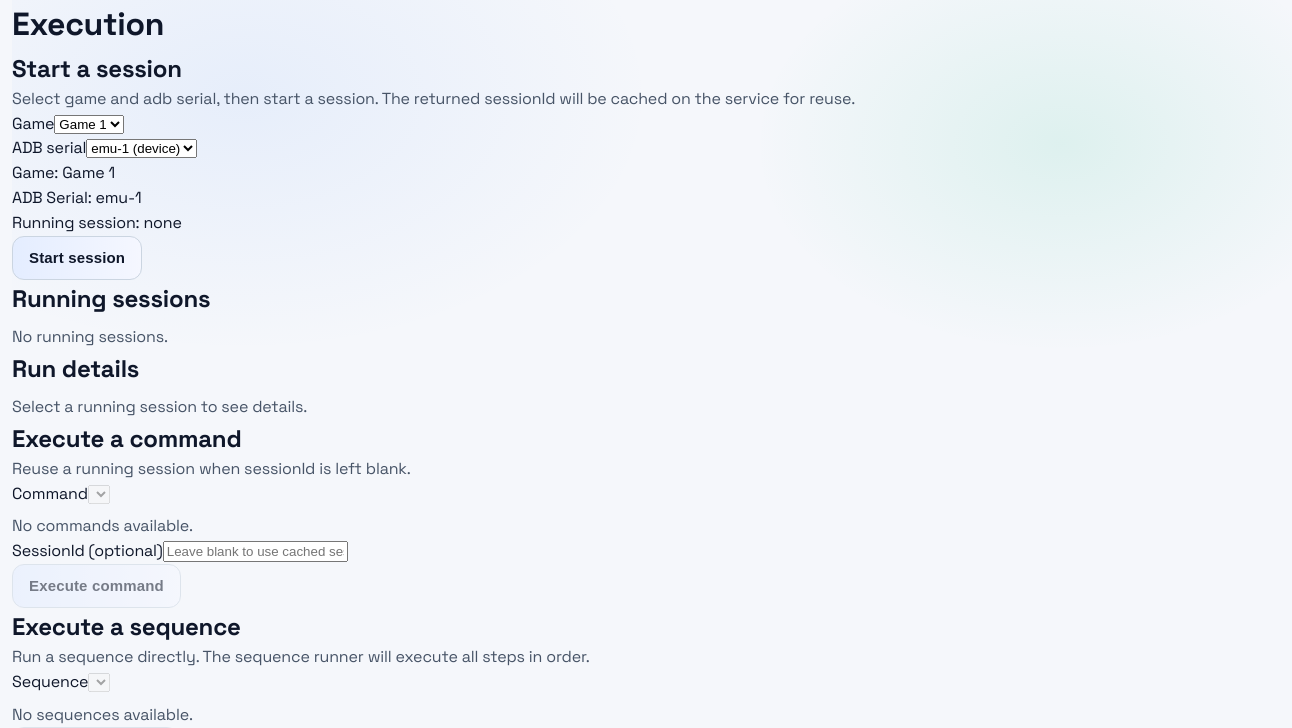
Test: Execution connect primitive UX › submits game and adb serial through startSession
The width and height of the screenshot is (1292, 728).
Click the button "Start session". click: click(77, 258)
box: [12, 236, 142, 280]
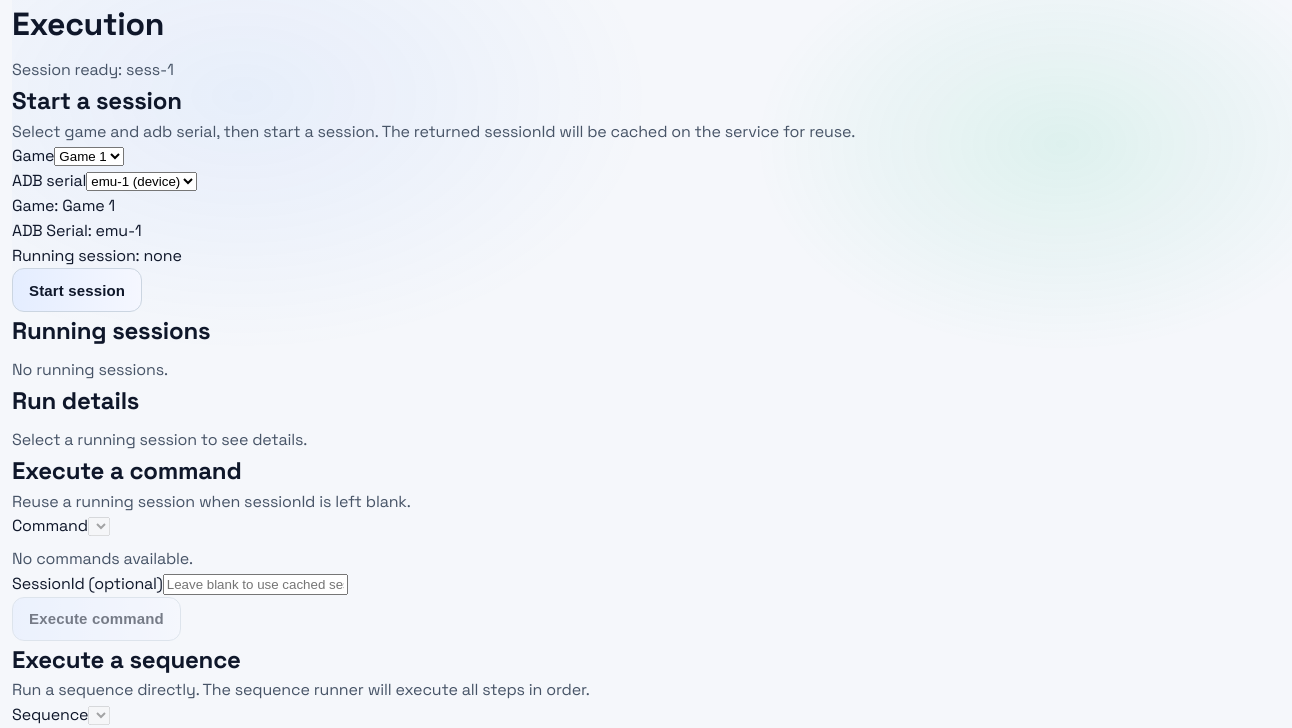
Result: the text "Session ready: sess-1" is shown at [12, 59, 174, 80]
